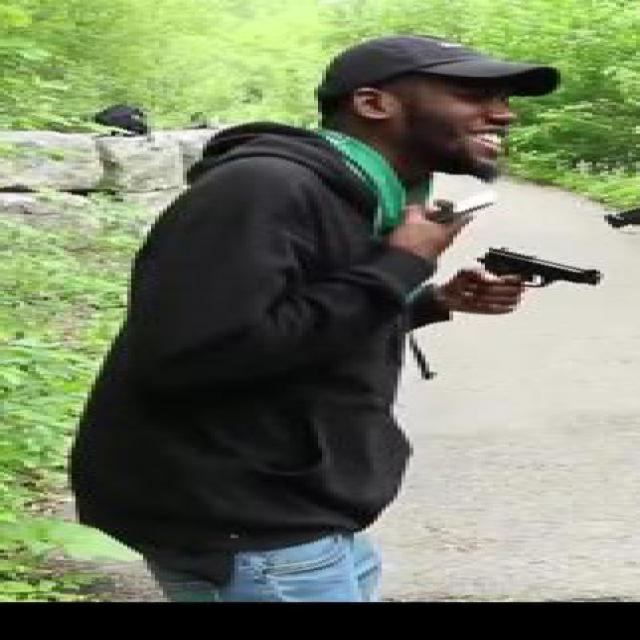weapon: (476, 243, 604, 294)
